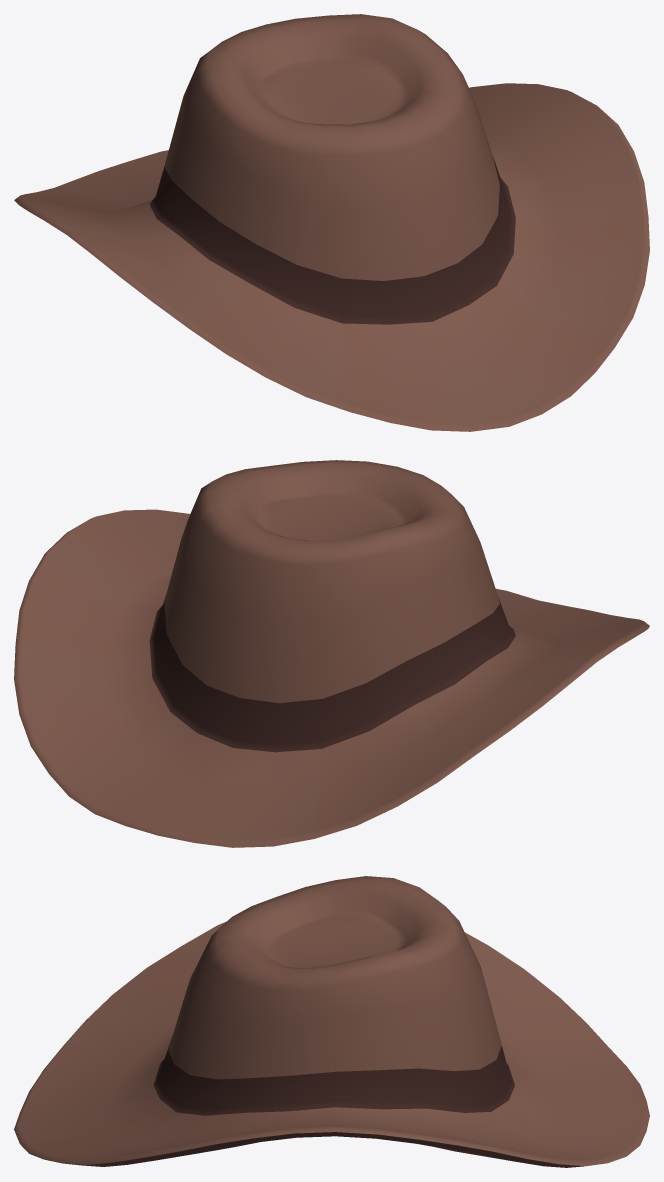
File: Cowboy_hat.fbx
3 views of the same model, one above another, from view 1: azimuth 30°, elevation 25°; view 2: azimuth 150°, elevation 25°; view 3: azimuth 270°, elevation 25° (orthographic). The views are drawn at different scales.
Parts seen in each view (by area): view 1: CowboyHat; view 2: CowboyHat; view 3: CowboyHat.
Boxes of the visible parts, x1,y1,x2,y2 form: CowboyHat: [14, 14, 649, 431]; CowboyHat: [14, 460, 649, 847]; CowboyHat: [14, 876, 649, 1167].
Bounding box in the file's own units: 172 × 73.99 × 198.
